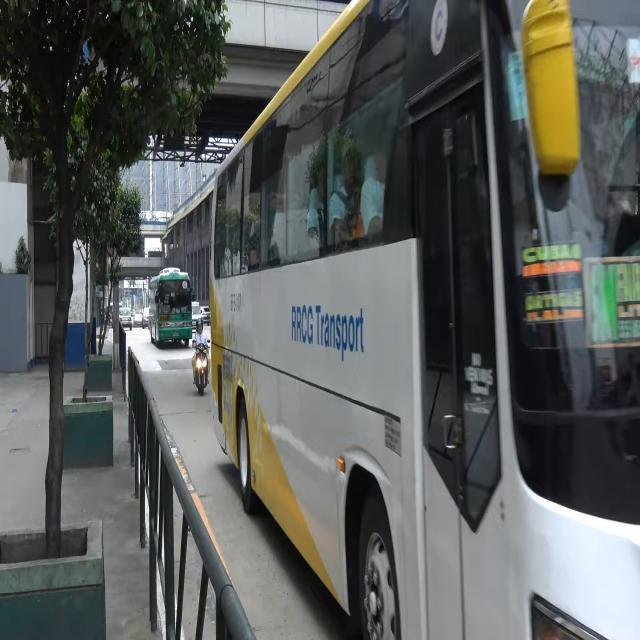bus: (209, 0, 640, 640), (148, 264, 194, 352)
car: (119, 308, 132, 332), (192, 302, 202, 328)
motorcycle: (191, 319, 210, 395)
